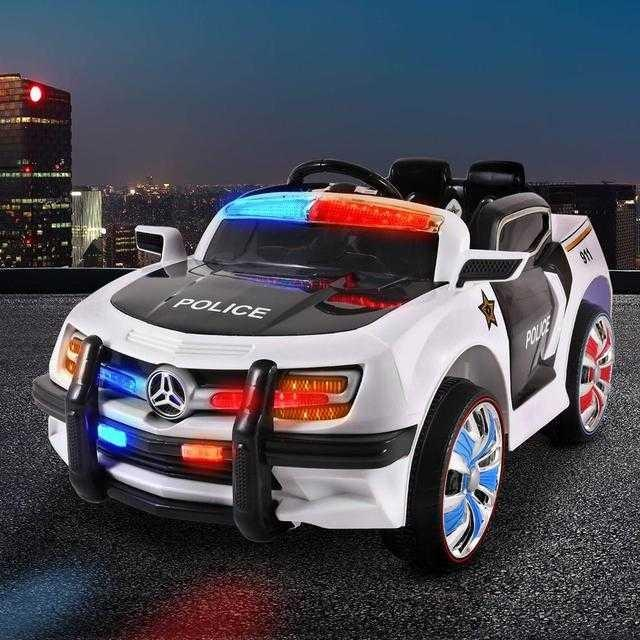firetruck: (41, 151, 614, 565)
